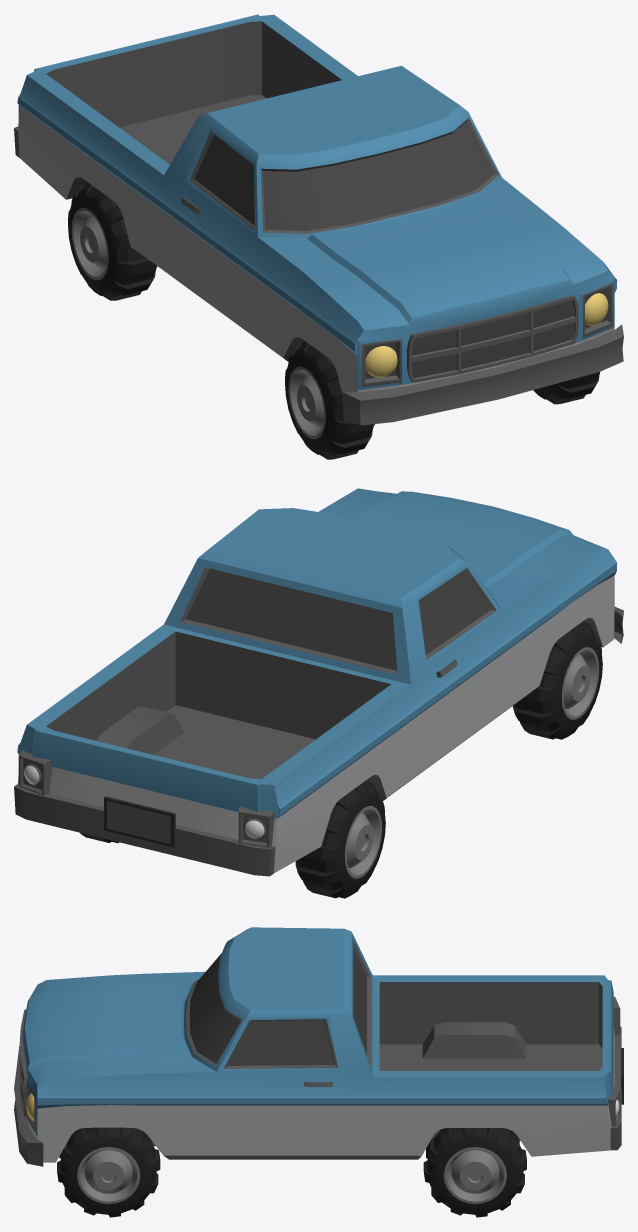
The model's file is S_VehiclePickup.gltf.
The picture shows the model from 3 angles, top to bottom: view 1: azimuth 30°, elevation 25°; view 2: azimuth 150°, elevation 25°; view 3: azimuth 270°, elevation 25°; orthographic projection. The views are drawn at different scales.
Visible parts, largest first — view 1: Cube_003-col, Cylinder_002-col, Cylinder_001-col, Cylinder_003-col; view 2: Cube_003-col, Cylinder_002-col, Cylinder_001-col; view 3: Cube_003-col, Cylinder_002-col, Cylinder_003-col.
Boxes of the visible parts, x1,y1,x2,y2 form: Cube_003-col: (14,14,623,425); Cylinder_002-col: (68,182,157,300); Cylinder_001-col: (285,340,374,459); Cylinder_003-col: (533,372,600,404); Cube_003-col: (14,488,623,876); Cylinder_002-col: (80,780,385,898); Cylinder_001-col: (512,621,602,739); Cube_003-col: (14,927,623,1166); Cylinder_002-col: (423,1128,526,1217); Cylinder_003-col: (57,1127,160,1217).
Size of the model in its own units: 2.31 by 1.85 by 5.18.
3 materials, 1 textured.
